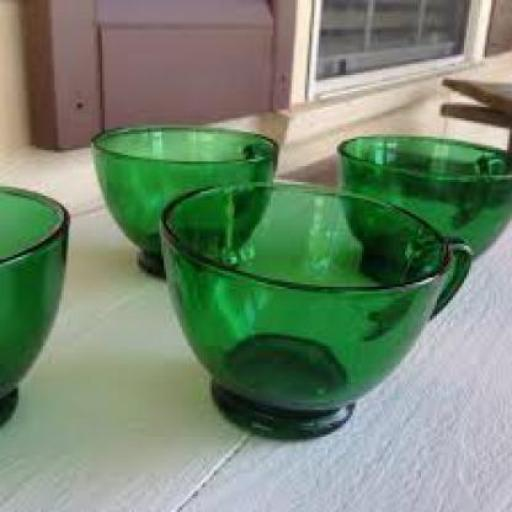glass: (157, 180, 468, 439), (89, 125, 275, 282), (334, 134, 510, 284), (0, 185, 69, 427)
